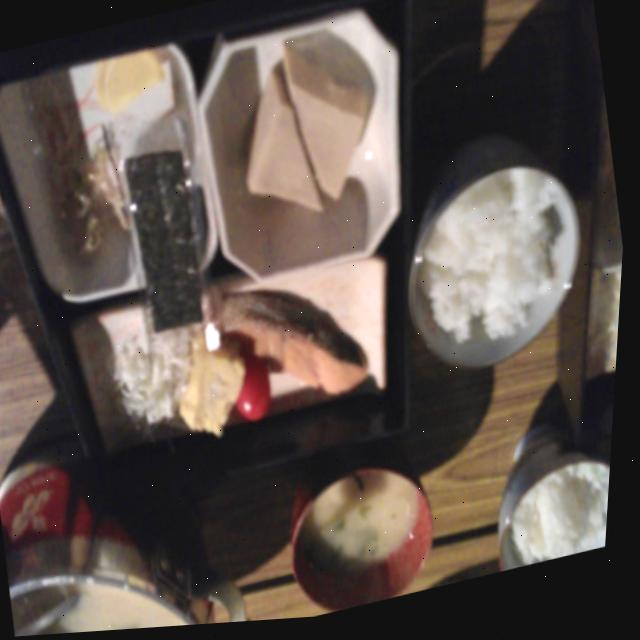汤锅炖物: (246, 419, 485, 626)
熟制海鲜: (230, 272, 388, 431)
米饭主食: (381, 142, 614, 399), (452, 404, 620, 587)
